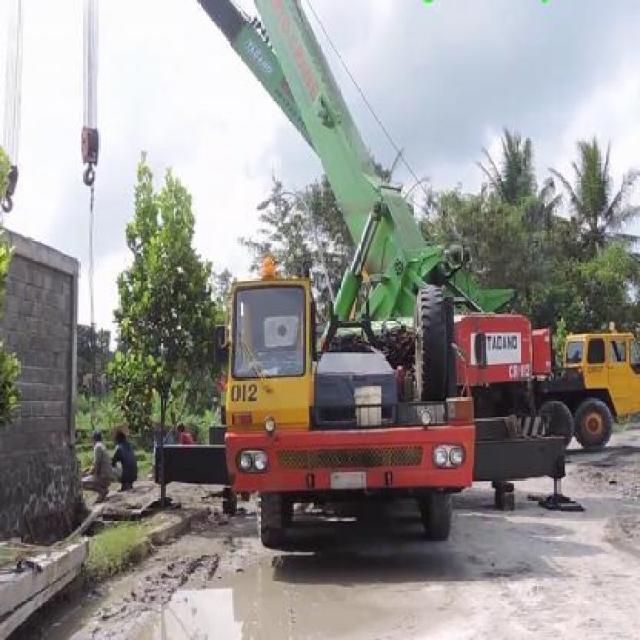Mobile Crane: (169, 0, 551, 542)
